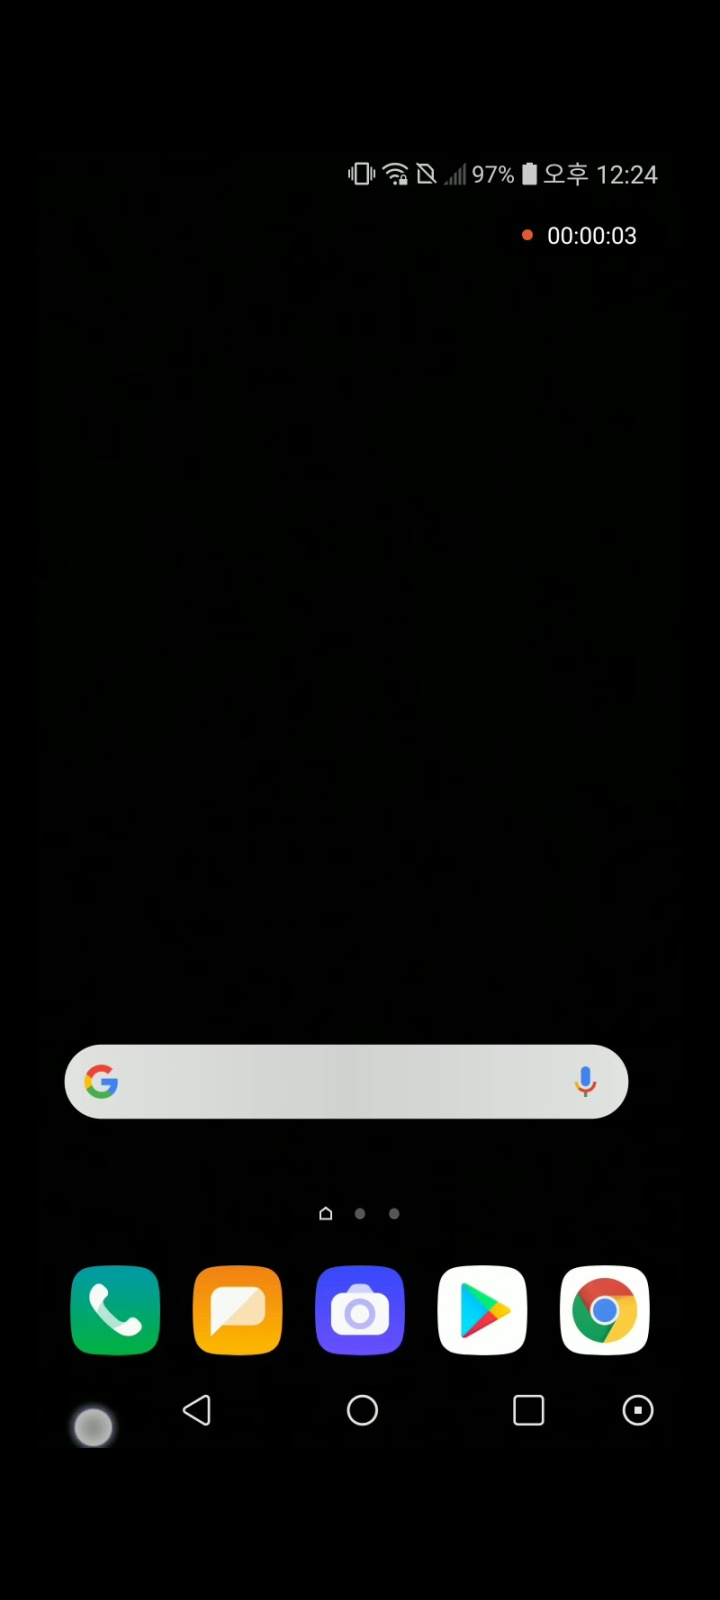Cursor: (72, 1403, 117, 1448)
